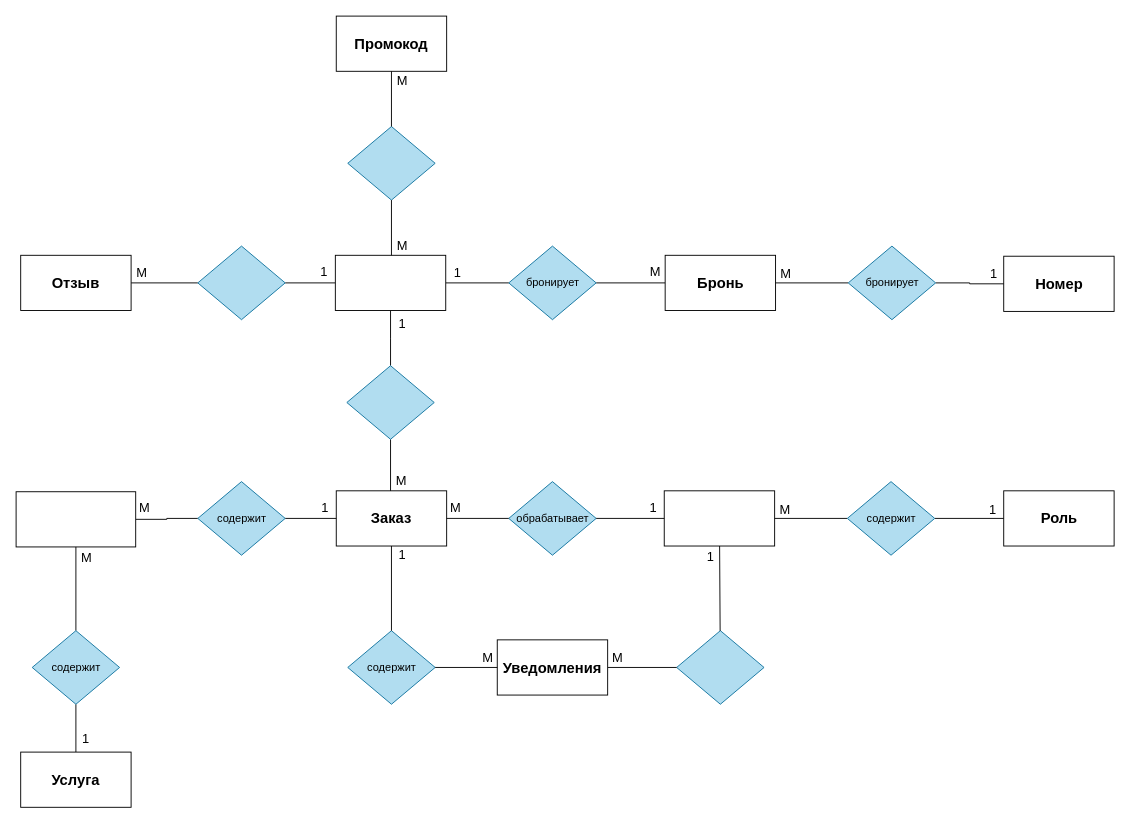
This 1131x823 diagram has some shape labels left out. The centre of each missing label's shape, as x and y in pixels:
"Гость" goes at (x=390, y=282).
"оставляет" goes at (x=241, y=282).
"получает" goes at (x=720, y=667).
"применяет" goes at (x=391, y=163).
"создает" goes at (x=390, y=402).
"Сотрудник" goes at (x=719, y=518).
"Услуга в заказе" goes at (x=75, y=519).
